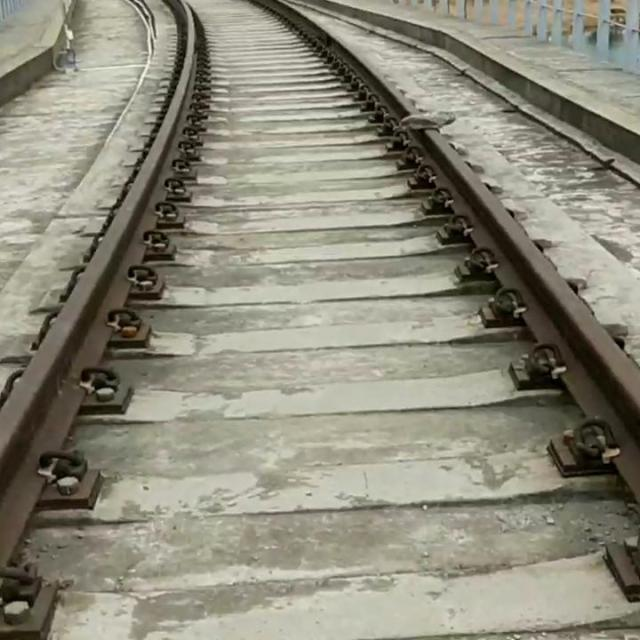danger: (383, 104, 464, 136)
rail: (0, 3, 196, 565), (412, 130, 640, 504), (255, 0, 412, 117)
